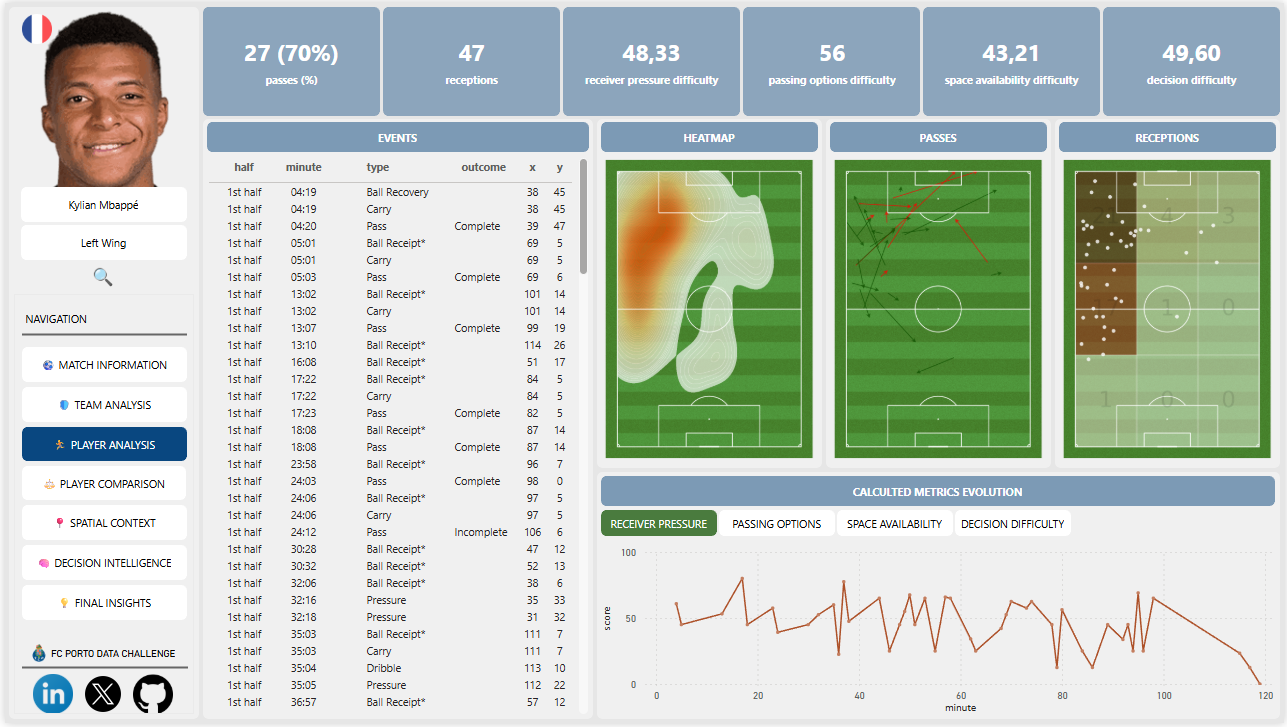

The page's visual inventory and layout, read from the dashboard file:
{"tool":"powerbi","page":{"name":"player analysis","canvas":[1280,720],"ordinal":2},"visuals":[{"type":"shape","box":[4,4,190,712],"z":0},{"type":"actionButton","title":"decision diff","box":[950,507,116,26],"z":0,"group":"g1"},{"type":"actionButton","title":"Botão Ativo Acumulado","box":[16.6,344.1,165,35],"z":1000},{"type":"actionButton","title":"space ava","box":[832,507,116,26],"z":1000,"group":"g1"},{"type":"actionButton","title":"Botão Ativo Acumulado","box":[16.7,383.9,165.7,35],"z":2000},{"type":"actionButton","title":"passing opt","box":[714,507,116,26],"z":2000,"group":"g1"},{"type":"actionButton","title":"Botão Ativo Acumulado","box":[17,424,165,34],"z":3000},{"type":"actionButton","title":"receiver pre","box":[596,507,116,26],"z":3000,"group":"g2"},{"type":"actionButton","title":"receiver pres","box":[596,507,116,26],"z":3000,"group":"g1"},{"type":"lineChart","fields":{"Category":["fct_events.minute"],"Y":["Avg(fct_events.receiver_pressure_score)"]},"box":[592,535,683,181],"z":3000,"group":"g3"},{"type":"actionButton","title":"Botão Ativo Acumulado","box":[17,463,164,34],"z":4000},{"type":"actionButton","title":"Botão Ativo Acumulado","box":[17,502,165,35],"z":5000},{"type":"shape","box":[16.6,302,165.6,58.9],"z":6000},{"type":"actionButton","title":"Botão Ativo Acumulado","box":[10.1,300,83,30],"z":7000},{"type":"actionButton","title":"Botão Ativo Acumulado","box":[17,542,165,35],"z":8000},{"type":"actionButton","title":"Botão Ativo Acumulado","box":[17,582,165,35],"z":9000},{"type":"shape","box":[17,635,166,59],"z":10000},{"type":"image","box":[28.4,671,40,40],"z":11000},{"type":"image","box":[128.4,671,40,40],"z":12000},{"type":"image","box":[78.4,671,40,40],"z":13000},{"type":"image","box":[4,6,189,185],"z":14000},{"type":"actionButton","title":"Botão Ativo Acumulado","box":[16,184,166,35],"z":15000},{"type":"image","box":[88,264,20,20],"z":16000},{"type":"actionButton","title":"Botão Ativo Acumulado","box":[16,222,166,35],"z":17000},{"type":"image","box":[17,11,30,30],"z":18000},{"type":"shape","box":[198,4,177,109],"z":19000},{"type":"shape","box":[378,4,177,109],"z":20000},{"type":"shape","box":[558,4,177,109],"z":21000},{"type":"shape","box":[738,4,177,109],"z":22000},{"type":"shape","box":[918,4,177,109],"z":23000},{"type":"shape","box":[198,116,390,600],"z":24000},{"type":"card","title":"asd","fields":{"Values":["Min(fct_player_stats.passes_and_percentage)"]},"box":[198,4,177,109],"z":25000},{"type":"card","title":"asd","fields":{"Values":["Avg(fct_player_stats.passing_options_difficulty_score)"]},"box":[739,4,176,109],"z":26000},{"type":"card","title":"asd","fields":{"Values":["Avg(fct_player_stats.space_difficulty_score)"]},"box":[918,4,177,109],"z":27000},{"type":"card","title":"asd","fields":{"Values":["Sum(fct_player_stats.receptions)"]},"box":[378,4,177,109],"z":28000},{"type":"actionButton","title":"Botão Ativo Acumulado","box":[202,119,382,30],"z":29000},{"type":"card","title":"asd","fields":{"Values":["Avg(fct_player_stats.receiver_pressure_score)"]},"box":[558,4,177,109],"z":30000},{"type":"shape","box":[1098,4,177,109],"z":31000},{"type":"tableEx","title":"tabela","fields":{"Values":["fct_events.match_half_text","fct_events.match_time_final","fct_events.index","fct_events.type","fct_events.type_outcome","fct_events.location_x","fct_events.location_y"]},"box":[198,150,390,566],"z":32000},{"type":"card","title":"asd","fields":{"Values":["Max(fct_player_stats.decision_difficulty_score)"]},"box":[1098,4,177,109],"z":33000},{"type":"shape","box":[592,116,225,349],"z":34000},{"type":"shape","box":[821,116,225,349],"z":35000},{"type":"shape","box":[1050,116,225,349],"z":36000},{"type":"shape","box":[592,469,683,247],"z":37000},{"type":"actionButton","title":"Botão Ativo Acumulado","box":[596,119,217,30],"z":38000},{"type":"actionButton","title":"Botão Ativo Acumulado","box":[825,119,217,30],"z":39000},{"type":"actionButton","title":"Botão Ativo Acumulado","box":[1054,119,217,30],"z":40000},{"type":"pythonVisual","fields":{"Values":["fct_events.location_x","fct_events.location_y","fct_events.pass_end_x","fct_events.pass_end_y","fct_events.pass_outcome","fct_events.type"]},"box":[821,140,225,332],"z":41000},{"type":"pythonVisual","fields":{"Values":["fct_events.location_x","fct_events.location_y","fct_events.pass_end_x","fct_events.pass_end_y","fct_events.pass_outcome","fct_events.type"]},"box":[1050,140,225,332],"z":42000},{"type":"actionButton","title":"Botão Ativo Acumulado","box":[596,473,674,30],"z":43000},{"type":"pythonVisual","title":"heatmap","fields":{"Values":["fct_events.location_x","fct_events.location_y"]},"box":[592,140,225,332],"z":44000},{"type":"group","id":"g1","title":"inativos","box":[596,507,470,26],"z":45000},{"type":"group","id":"g2","title":"ativos","box":[596,507,470,26],"z":46000},{"type":"group","id":"g3","title":"tabelas","box":[592,535,683,181],"z":47000},{"type":"actionButton","title":"Botão Ativo Acumulado","box":[37,635,143,30],"z":49000},{"type":"image","box":[25,641,18,18],"z":50000},{"type":"group","id":"g4","title":"filters","box":[9,291,180,420],"z":50500}]}

Visuals, with their boxes in screenshot pixels (x1, y1, x2, y2), scaled from the page's 1280x720 canvas onto the 1287x727 screenshot:
shape: [left=4, top=4, right=195, bottom=723]
"decision diff" actionButton: [left=955, top=512, right=1072, bottom=538]
"Botão Ativo Acumulado" actionButton: [left=17, top=347, right=183, bottom=383]
"space ava" actionButton: [left=837, top=512, right=953, bottom=538]
"Botão Ativo Acumulado" actionButton: [left=17, top=388, right=183, bottom=423]
"passing opt" actionButton: [left=718, top=512, right=835, bottom=538]
"Botão Ativo Acumulado" actionButton: [left=17, top=428, right=183, bottom=462]
"receiver pre" actionButton: [left=599, top=512, right=716, bottom=538]
"receiver pres" actionButton: [left=599, top=512, right=716, bottom=538]
lineChart - fct_events.minute x Avg(fct_events.receiver_pressure_score): [left=595, top=540, right=1282, bottom=723]
"Botão Ativo Acumulado" actionButton: [left=17, top=468, right=182, bottom=502]
"Botão Ativo Acumulado" actionButton: [left=17, top=507, right=183, bottom=542]
shape: [left=17, top=305, right=183, bottom=364]
"Botão Ativo Acumulado" actionButton: [left=10, top=303, right=94, bottom=333]
"Botão Ativo Acumulado" actionButton: [left=17, top=547, right=183, bottom=583]
"Botão Ativo Acumulado" actionButton: [left=17, top=588, right=183, bottom=623]
shape: [left=17, top=641, right=184, bottom=701]
image: [left=29, top=678, right=69, bottom=718]
image: [left=129, top=678, right=169, bottom=718]
image: [left=79, top=678, right=119, bottom=718]
image: [left=4, top=6, right=194, bottom=193]
"Botão Ativo Acumulado" actionButton: [left=16, top=186, right=183, bottom=221]
image: [left=88, top=267, right=109, bottom=287]
"Botão Ativo Acumulado" actionButton: [left=16, top=224, right=183, bottom=259]
image: [left=17, top=11, right=47, bottom=41]
shape: [left=199, top=4, right=377, bottom=114]
shape: [left=380, top=4, right=558, bottom=114]
shape: [left=561, top=4, right=739, bottom=114]
shape: [left=742, top=4, right=920, bottom=114]
shape: [left=923, top=4, right=1101, bottom=114]
shape: [left=199, top=117, right=591, bottom=723]
"asd" card: [left=199, top=4, right=377, bottom=114]
"asd" card: [left=743, top=4, right=920, bottom=114]
"asd" card: [left=923, top=4, right=1101, bottom=114]
"asd" card: [left=380, top=4, right=558, bottom=114]
"Botão Ativo Acumulado" actionButton: [left=203, top=120, right=587, bottom=150]
"asd" card: [left=561, top=4, right=739, bottom=114]
shape: [left=1104, top=4, right=1282, bottom=114]
"tabela" tableEx: [left=199, top=151, right=591, bottom=723]
"asd" card: [left=1104, top=4, right=1282, bottom=114]
shape: [left=595, top=117, right=821, bottom=470]
shape: [left=825, top=117, right=1052, bottom=470]
shape: [left=1056, top=117, right=1282, bottom=470]
shape: [left=595, top=474, right=1282, bottom=723]
"Botão Ativo Acumulado" actionButton: [left=599, top=120, right=817, bottom=150]
"Botão Ativo Acumulado" actionButton: [left=830, top=120, right=1048, bottom=150]
"Botão Ativo Acumulado" actionButton: [left=1060, top=120, right=1278, bottom=150]
pythonVisual - fct_events.location_x x fct_events.location_y: [left=825, top=141, right=1052, bottom=477]
pythonVisual - fct_events.location_x x fct_events.location_y: [left=1056, top=141, right=1282, bottom=477]
"Botão Ativo Acumulado" actionButton: [left=599, top=478, right=1277, bottom=508]
"heatmap" pythonVisual: [left=595, top=141, right=821, bottom=477]
"inativos" group: [left=599, top=512, right=1072, bottom=538]
"ativos" group: [left=599, top=512, right=1072, bottom=538]
"tabelas" group: [left=595, top=540, right=1282, bottom=723]
"Botão Ativo Acumulado" actionButton: [left=37, top=641, right=181, bottom=671]
image: [left=25, top=647, right=43, bottom=665]
"filters" group: [left=9, top=294, right=190, bottom=718]
